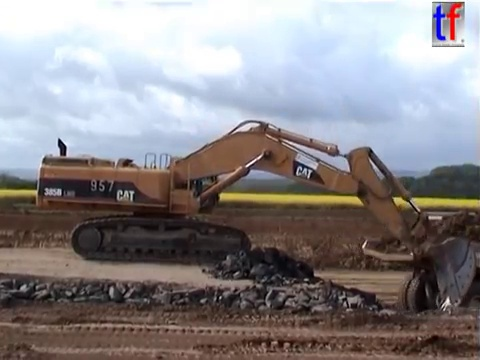excavator: (33, 117, 479, 317)
truck: (359, 214, 480, 330)
